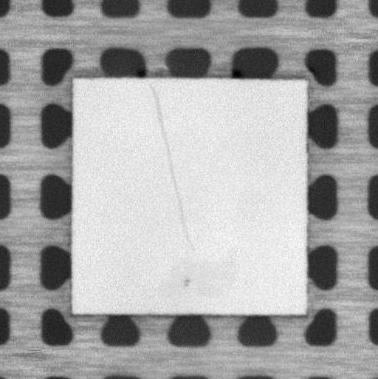DIE_CRACK: (148, 83, 195, 252)
